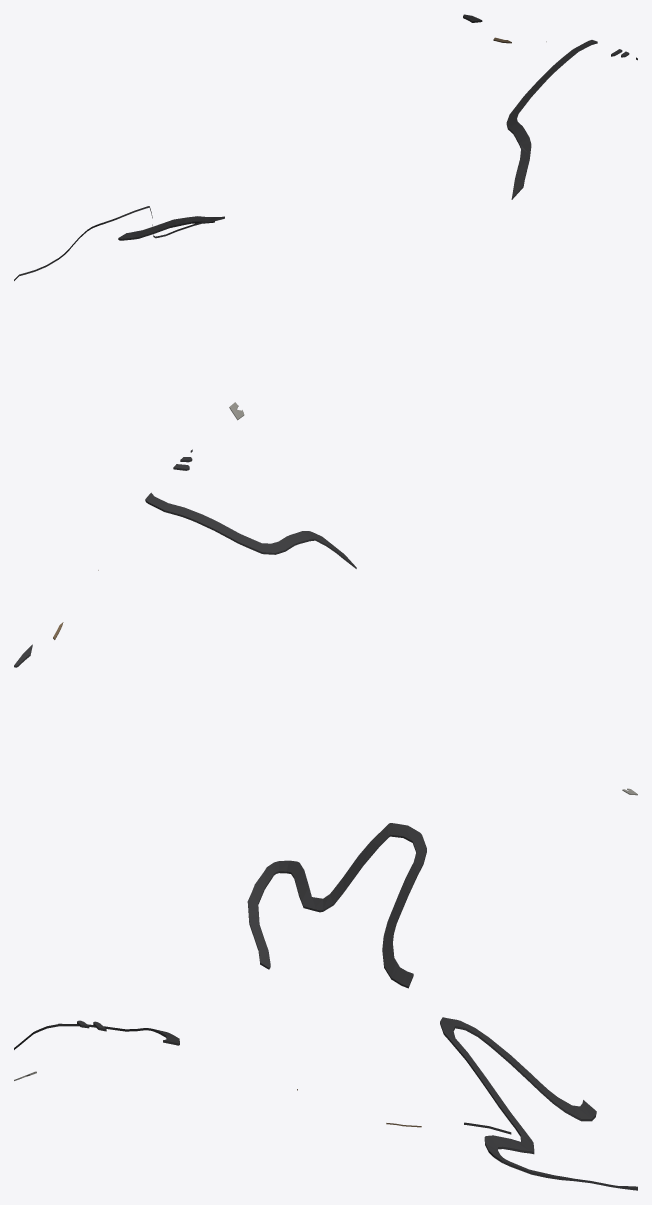
The picture shows the model from 3 angles, top to bottom: view 1: azimuth 30°, elevation 25°; view 2: azimuth 150°, elevation 25°; view 3: azimuth 270°, elevation 25°; orthographic projection. The views are drawn at different scales.
Bounding box in the file's own units: 293 × 183 × 292.
